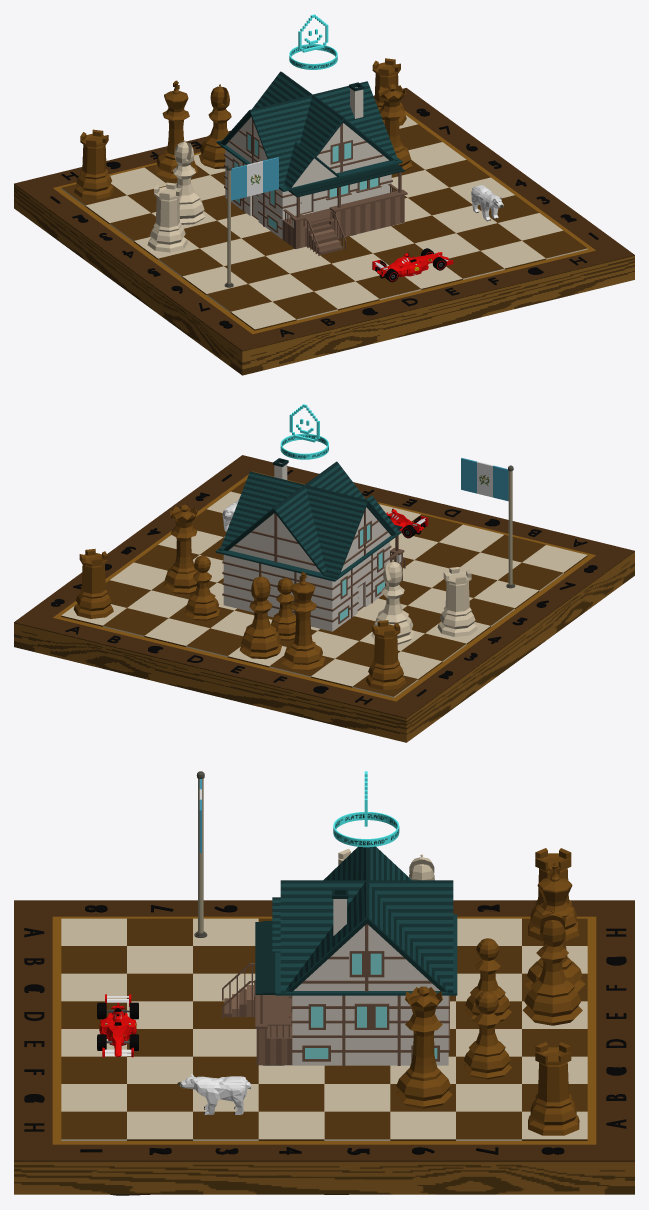
The picture shows the model from 3 angles, top to bottom: view 1: azimuth 30°, elevation 25°; view 2: azimuth 150°, elevation 25°; view 3: azimuth 270°, elevation 25°; orthographic projection. The views are drawn at different scales.
Visible parts, largest first — view 1: Cube.002, Cube.793, OBJRANDOM_GUATEMALAN_FLAG, VEHICLES_FORMULA_1, TYPE_PREMIUM, ANIMAL_OSO_POLAR; view 2: Cube.002, Cube.793, OBJRANDOM_GUATEMALAN_FLAG, TYPE_PREMIUM, VEHICLES_FORMULA_1; view 3: Cube.002, Cube.793, VEHICLES_FORMULA_1, ANIMAL_OSO_POLAR, TYPE_PREMIUM, OBJRANDOM_GUATEMALAN_FLAG.
Part boxes in pixels (x1=…): Cube.002: x1=14, y1=58, x2=634, y2=375; Cube.793: x1=216, y1=71, x2=407, y2=255; OBJRANDOM_GUATEMALAN_FLAG: x1=224, y1=157, x2=278, y2=287; VEHICLES_FORMULA_1: x1=372, y1=248, x2=453, y2=282; TYPE_PREMIUM: x1=289, y1=14, x2=337, y2=69; ANIMAL_OSO_POLAR: x1=471, y1=185, x2=503, y2=221; Cube.002: x1=14, y1=455, x2=634, y2=742; Cube.793: x1=215, y1=458, x2=405, y2=631; OBJRANDOM_GUATEMALAN_FLAG: x1=461, y1=458, x2=515, y2=588; TYPE_PREMIUM: x1=280, y1=404, x2=328, y2=459; VEHICLES_FORMULA_1: x1=386, y1=508, x2=428, y2=538; Cube.002: x1=14, y1=848, x2=634, y2=1194; Cube.793: x1=222, y1=846, x2=457, y2=1065; VEHICLES_FORMULA_1: x1=97, y1=994, x2=138, y2=1057; ANIMAL_OSO_POLAR: x1=177, y1=1074, x2=251, y2=1114; TYPE_PREMIUM: x1=333, y1=771, x2=399, y2=847; OBJRANDOM_GUATEMALAN_FLAG: x1=194, y1=771, x2=207, y2=937.
Size of the model in its own units: 3981 by 2151 by 4012.
36 materials, 4 textured.
